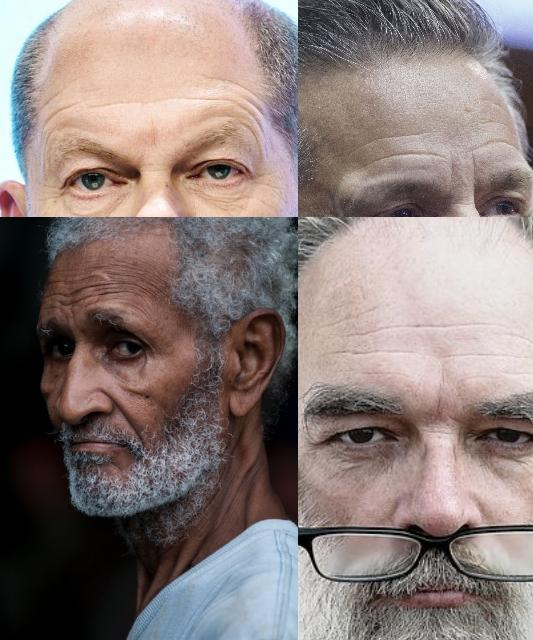crows_feet: (248, 165, 280, 189), (38, 178, 64, 206)
forehead: (378, 313, 484, 342), (91, 90, 206, 116), (226, 88, 268, 136), (105, 274, 155, 304), (461, 343, 523, 367), (336, 338, 388, 366), (382, 142, 442, 166), (38, 94, 74, 130), (54, 275, 96, 303), (478, 132, 522, 156)
gummy_smile: (103, 391, 138, 434)
